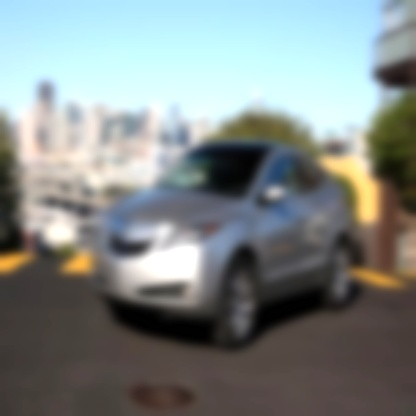Vehicle: (90, 141, 357, 353)
